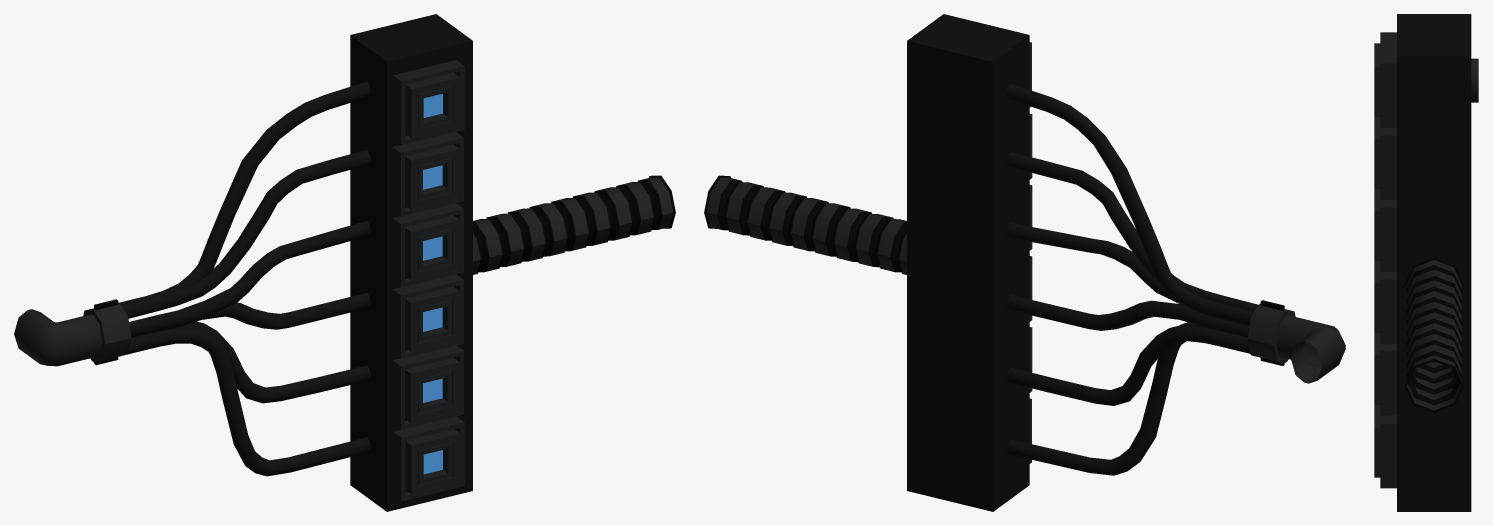
Rendered from Conector_Six_Assemble.fbx.
The picture shows the model from 3 angles, left to right: view 1: azimuth 30°, elevation 25°; view 2: azimuth 150°, elevation 25°; view 3: azimuth 270°, elevation 25°; orthographic projection.
Visible parts, largest first — view 1: Conector_Six_Assemble; view 2: Conector_Six_Assemble; view 3: Conector_Six_Assemble.
Part boxes in pixels (box(x1,y1,x2,y2)): Conector_Six_Assemble: box(14, 14, 675, 511); Conector_Six_Assemble: box(704, 14, 1345, 511); Conector_Six_Assemble: box(1374, 14, 1478, 511).
Size of the model in its own units: 96.37 by 66.28 by 13.75.
